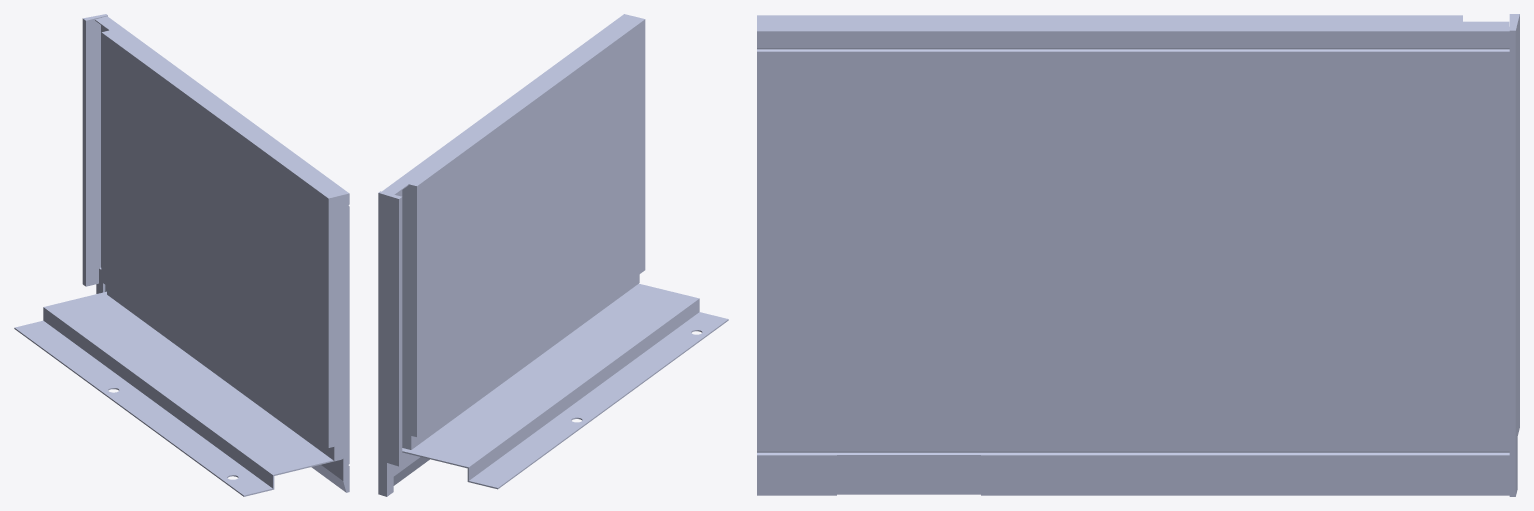
Rendered from lg-kava-C270-m.glb.
3 renders of one model, left to right at view 1: azimuth 30°, elevation 25°; view 2: azimuth 150°, elevation 25°; view 3: azimuth 270°, elevation 25°, orthographic. The views are drawn at different scales.
Visible parts, largest first — view 1: 46020541; view 2: 46020541; view 3: 46020541.
Part boxes in pixels (box(x1,y1,x2,y2)): 46020541: box(14, 14, 349, 496); 46020541: box(378, 14, 728, 496); 46020541: box(757, 14, 1519, 496).
Size of the model in its own units: 0.0653 by 0.1777 by 0.2635.
